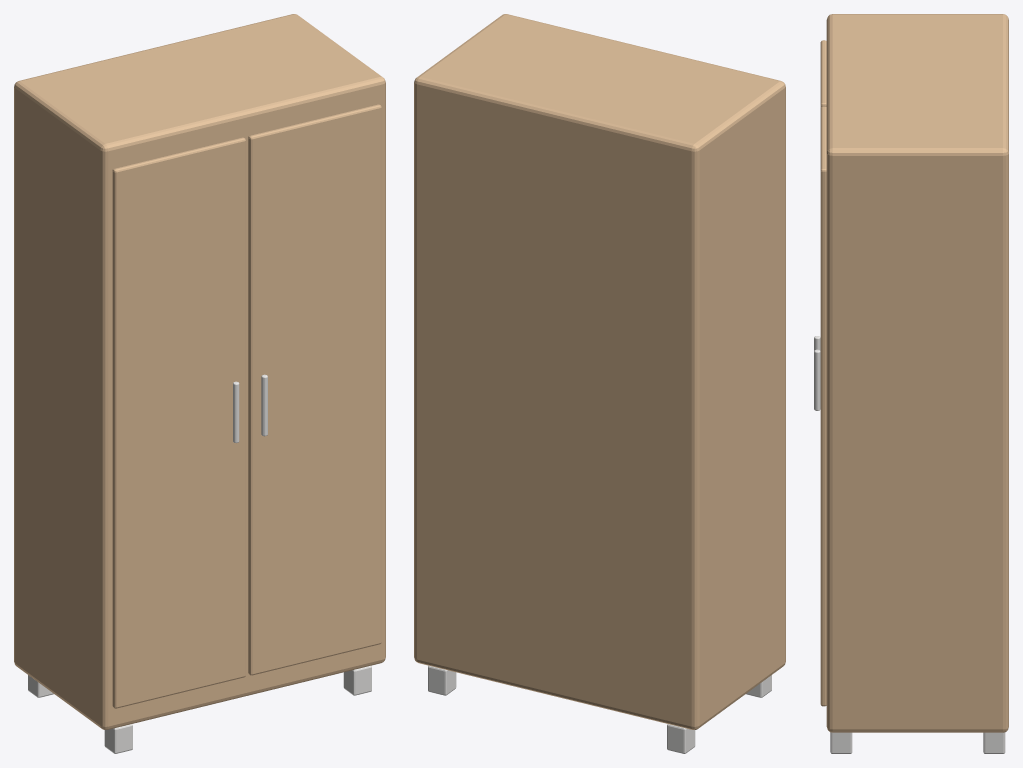
The model's file is meeting_rooms___private_spaces_catalog_62.glb.
3 views of the same model, side by side, from view 1: azimuth 30°, elevation 25°; view 2: azimuth 150°, elevation 25°; view 3: azimuth 270°, elevation 25° (orthographic).
Parts seen in each view (by area): view 1: Cube; view 2: Cube; view 3: Cube.
Part boxes in pixels (box(x1,y1,x2,y2)): Cube: box(14, 14, 385, 753); Cube: box(414, 14, 785, 753); Cube: box(814, 14, 1008, 753).
Size of the model in its own units: 0.9 by 1.85 by 0.535.
